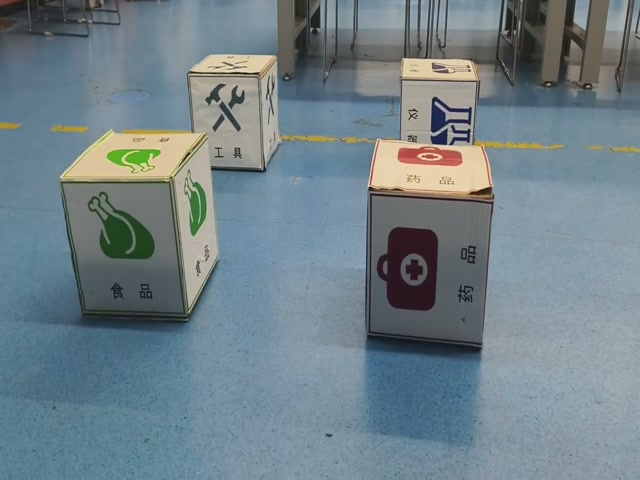Cube_food: (63, 125, 208, 194)
Cube_ins: (398, 53, 483, 89)
Cube_medicine: (370, 141, 488, 199)
Cube_tool: (187, 52, 278, 82)
